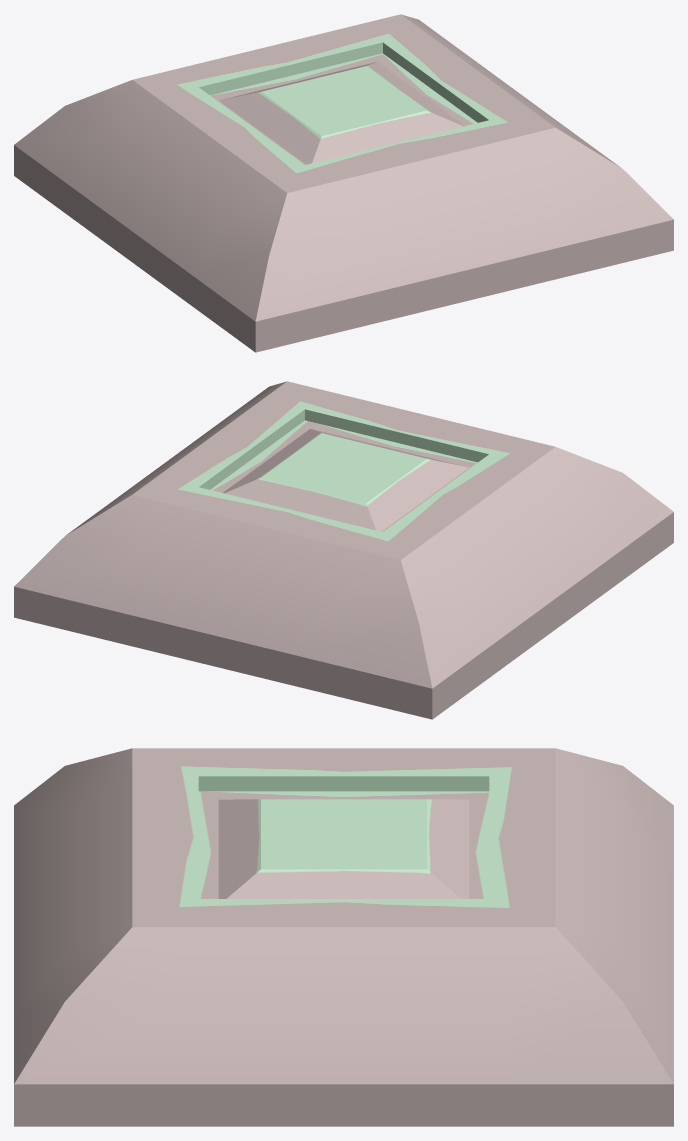
File: altar.fbx
The picture shows the model from 3 angles, top to bottom: view 1: azimuth 30°, elevation 25°; view 2: azimuth 150°, elevation 25°; view 3: azimuth 270°, elevation 25°; orthographic projection. The views are drawn at different scales.
Parts seen in each view (by area): view 1: Box005; view 2: Box005; view 3: Box005.
Part boxes in pixels (x1=…): Box005: x1=14, y1=14, x2=673, y2=352; Box005: x1=14, y1=381, x2=673, y2=719; Box005: x1=14, y1=748, x2=673, y2=1126.
Bounding box in the file's own units: 40 × 10.23 × 40.
